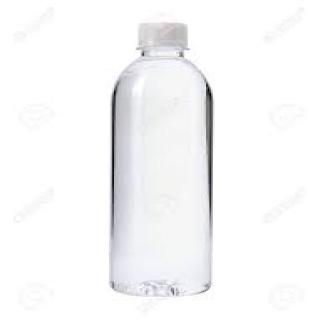Anorganik: (101, 17, 231, 303)
